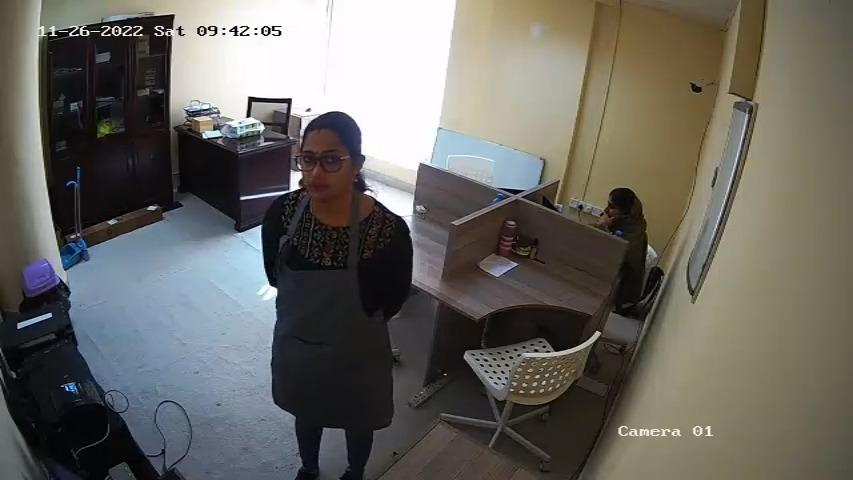apron: (268, 209, 373, 410)
